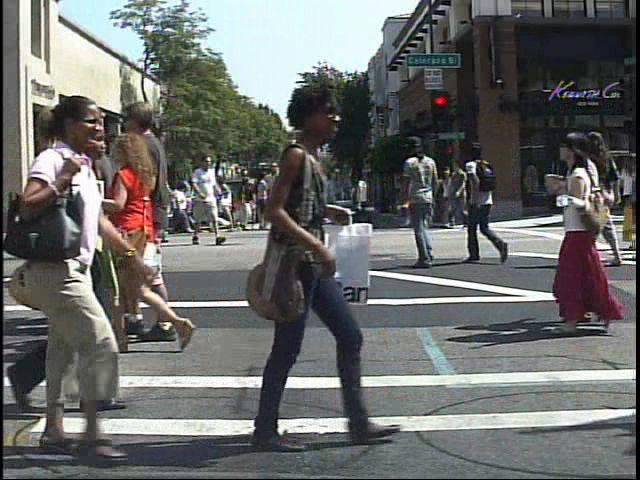person: (213, 77, 398, 459), (9, 89, 166, 469), (106, 123, 204, 352), (105, 97, 176, 351), (547, 122, 625, 348), (457, 138, 517, 271), (401, 130, 447, 276), (580, 128, 610, 343), (188, 151, 221, 249), (70, 163, 100, 247), (128, 161, 158, 244), (143, 158, 173, 238), (402, 161, 431, 234), (54, 183, 80, 246), (84, 183, 104, 225)
